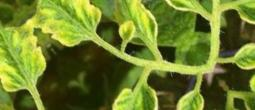Tomato leaf yellow virus: (4, 0, 120, 68), (98, 0, 179, 61), (98, 71, 178, 110), (163, 83, 214, 110), (181, 91, 251, 110)
